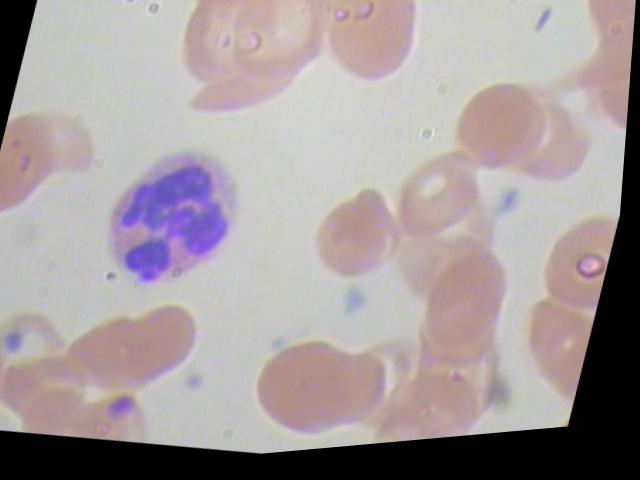Platelets: (108, 384, 148, 432), (337, 287, 380, 327), (495, 191, 535, 230), (5, 328, 29, 355)
Red Blood Cells: (246, 330, 373, 458), (303, 0, 436, 105), (216, 0, 344, 109), (386, 146, 500, 264), (414, 251, 528, 369), (303, 179, 413, 300), (446, 83, 552, 195), (0, 300, 84, 430), (118, 297, 217, 404), (0, 110, 77, 232)
White Blood Cells: (73, 121, 278, 315)
